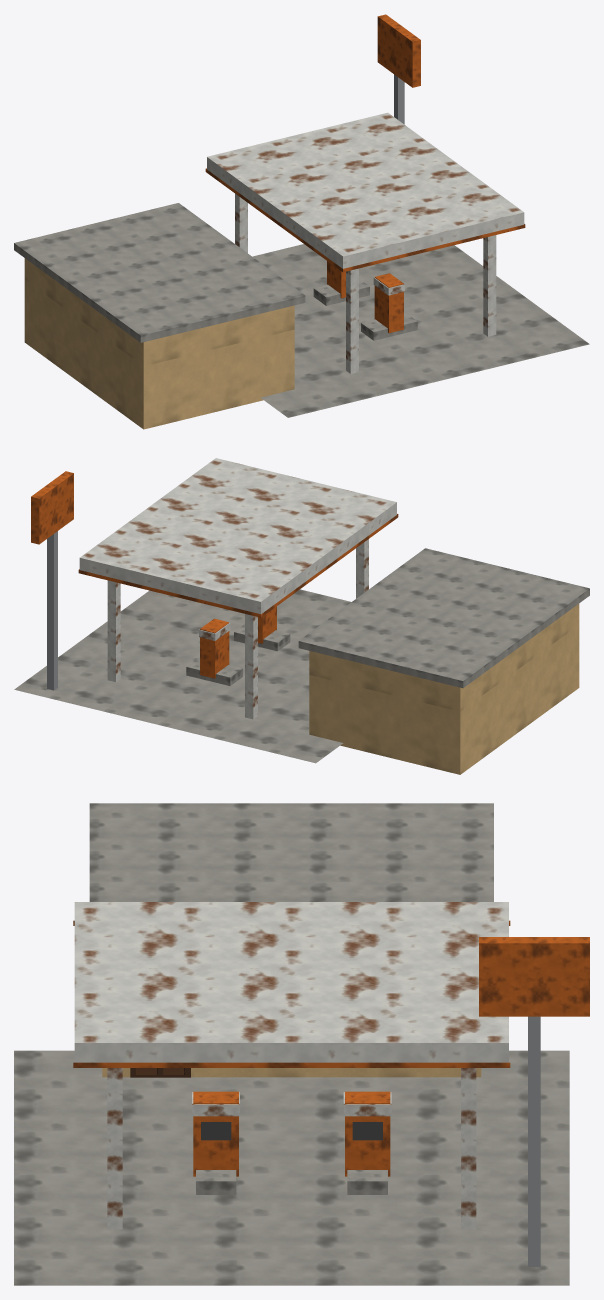
Rendered from gasstation0.fbx.
3 views of the same model, one above another, from view 1: azimuth 30°, elevation 25°; view 2: azimuth 150°, elevation 25°; view 3: azimuth 270°, elevation 25° (orthographic). The views are drawn at different scales.
Visible parts, largest first — view 1: gasstation0; view 2: gasstation0; view 3: gasstation0.
Part boxes in pixels (left/top/right/bottom): gasstation0: left=14, top=14, right=589, bottom=429; gasstation0: left=14, top=458, right=589, bottom=774; gasstation0: left=14, top=803, right=589, bottom=1285.
Bounding box in the file's own units: 15.5 × 7.2 × 11.4.
8 materials, 6 textured.
